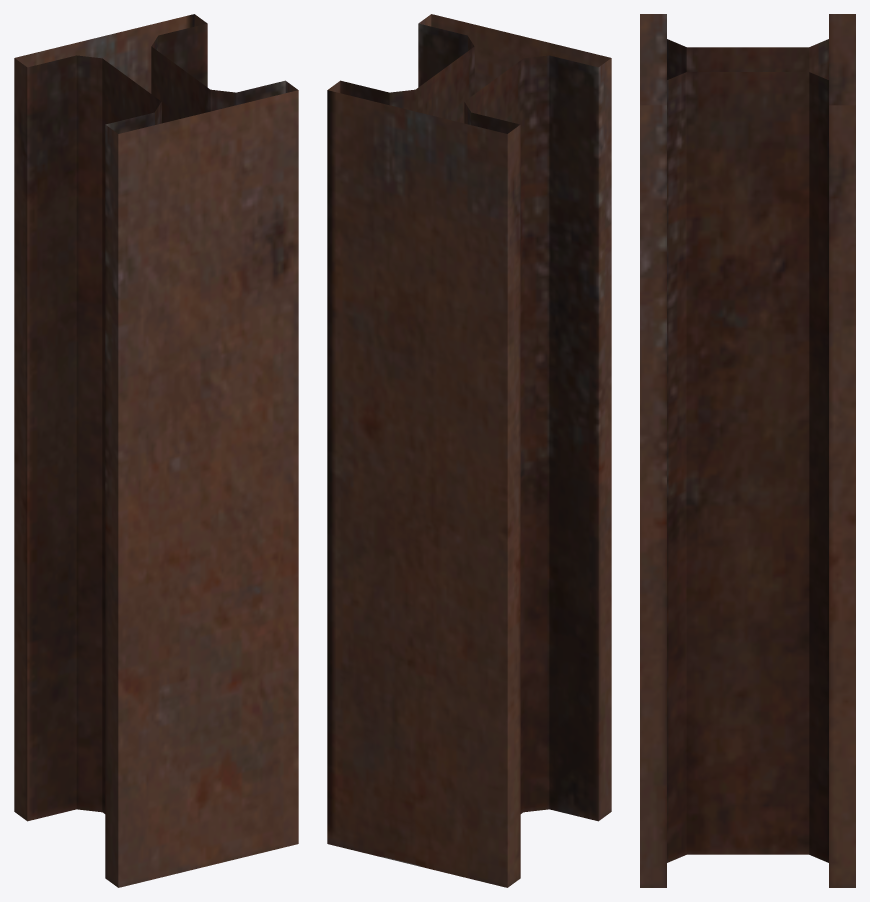
The model's file is girder_rusty_straight_tiny.dae.
The picture shows the model from 3 angles, left to right: view 1: azimuth 30°, elevation 25°; view 2: azimuth 150°, elevation 25°; view 3: azimuth 270°, elevation 25°; orthographic projection. The views are drawn at different scales.
Visible parts, largest first — view 1: girder_rusty_straight_tiny; view 2: girder_rusty_straight_tiny; view 3: girder_rusty_straight_tiny.
Part boxes in pixels (x1,y1,x2,y2): girder_rusty_straight_tiny: [14, 14, 298, 887]; girder_rusty_straight_tiny: [327, 14, 611, 887]; girder_rusty_straight_tiny: [640, 14, 855, 887].
Size of the model in its own units: 0.25 by 1 by 0.25.
